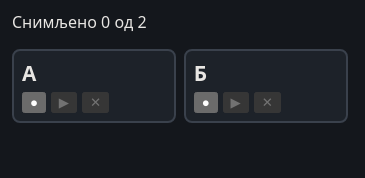
Recorder › shows one line when the mic is unavailable
Click the button named "Сними" at (34, 102), box left=22, top=92, right=46, bottom=113
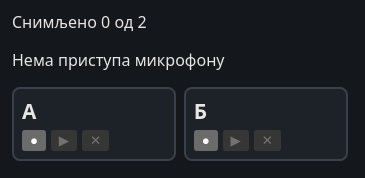
expect the message reads "Нема приступа микрофону": met, box left=12, top=49, right=224, bottom=71
